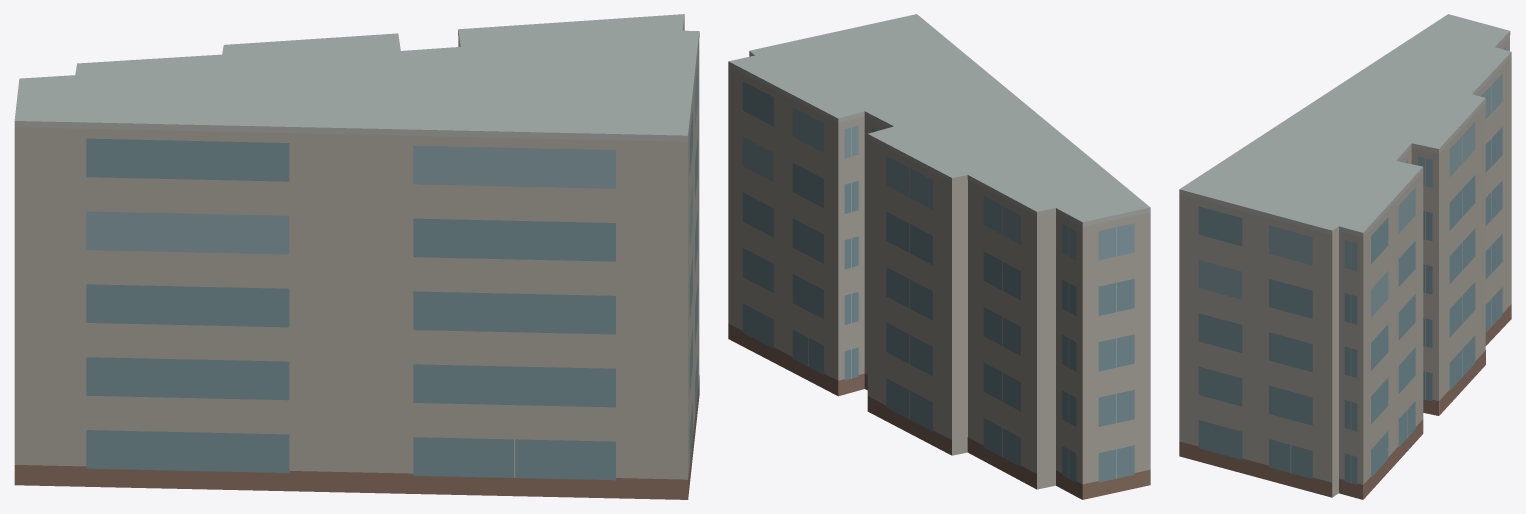
The model's file is survey-upis-32681492.glb.
3 renders of one model, left to right at view 1: azimuth 30°, elevation 25°; view 2: azimuth 150°, elevation 25°; view 3: azimuth 270°, elevation 25°, orthographic. The views are drawn at different scales.
Parts seen in each view (by area): view 1: survey-upis-32681492.tmp; view 2: survey-upis-32681492.tmp; view 3: survey-upis-32681492.tmp.
Part boxes in pixels (x1,y1,x2,y2): survey-upis-32681492.tmp: [14, 14, 699, 499]; survey-upis-32681492.tmp: [728, 14, 1150, 499]; survey-upis-32681492.tmp: [1179, 14, 1511, 499].
Size of the model in its own units: 25.32 by 14.4 by 16.25.
